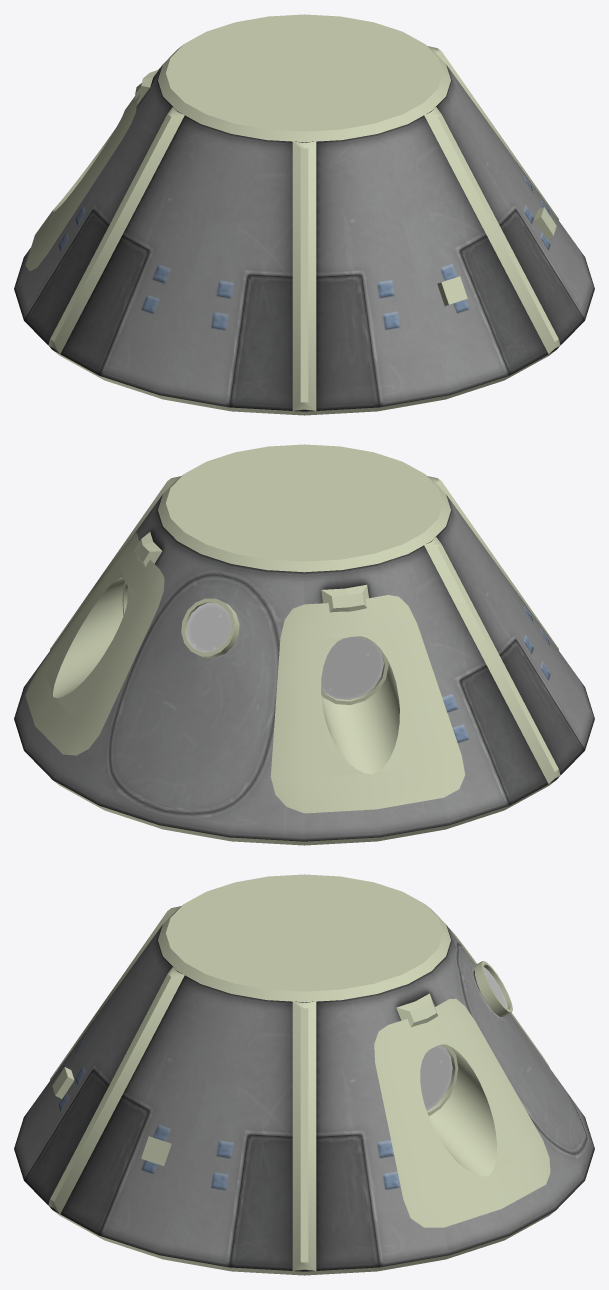
File: aquarius_crew_s1p5_1_interior.obj
3 views of the same model, one above another, from view 1: azimuth 30°, elevation 25°; view 2: azimuth 150°, elevation 25°; view 3: azimuth 270°, elevation 25° (orthographic).
Parts seen in each view (by area): view 1: interior, mask; view 2: mask, interior, interior_windows; view 3: interior, mask, interior_windows.
Part boxes in pixels (<box>): interior: <box>14,65,594,411</box>; mask: <box>25,14,560,415</box>; mask: <box>25,444,560,845</box>; interior: <box>14,495,594,841</box>; interior_windows: <box>127,589,383,699</box>; interior: <box>14,925,594,1271</box>; mask: <box>48,874,555,1275</box>; interior_windows: <box>420,967,507,1110</box>.
Size of the model in its own units: 1.84 by 0.775 by 1.83.
